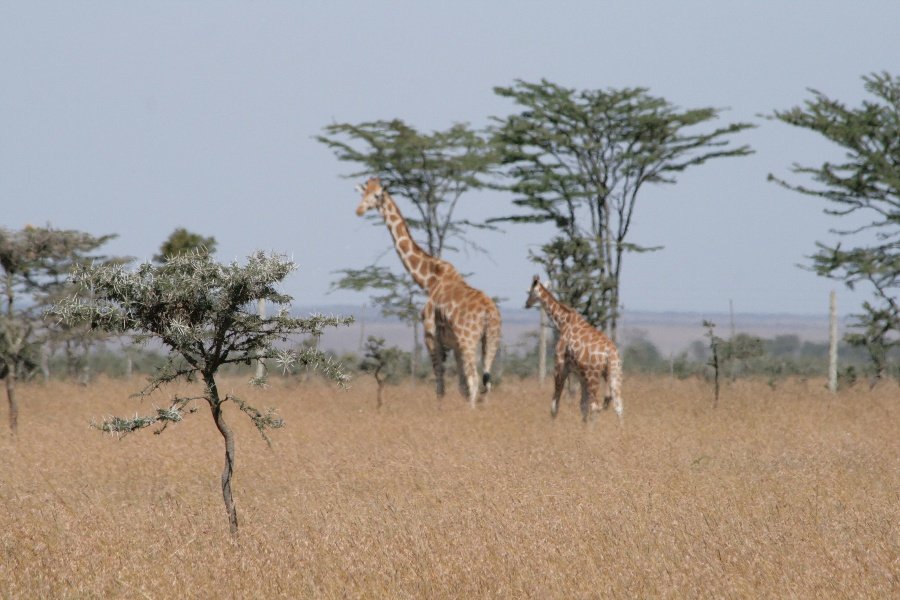giraffe: (347, 165, 507, 415), (517, 270, 636, 433)
